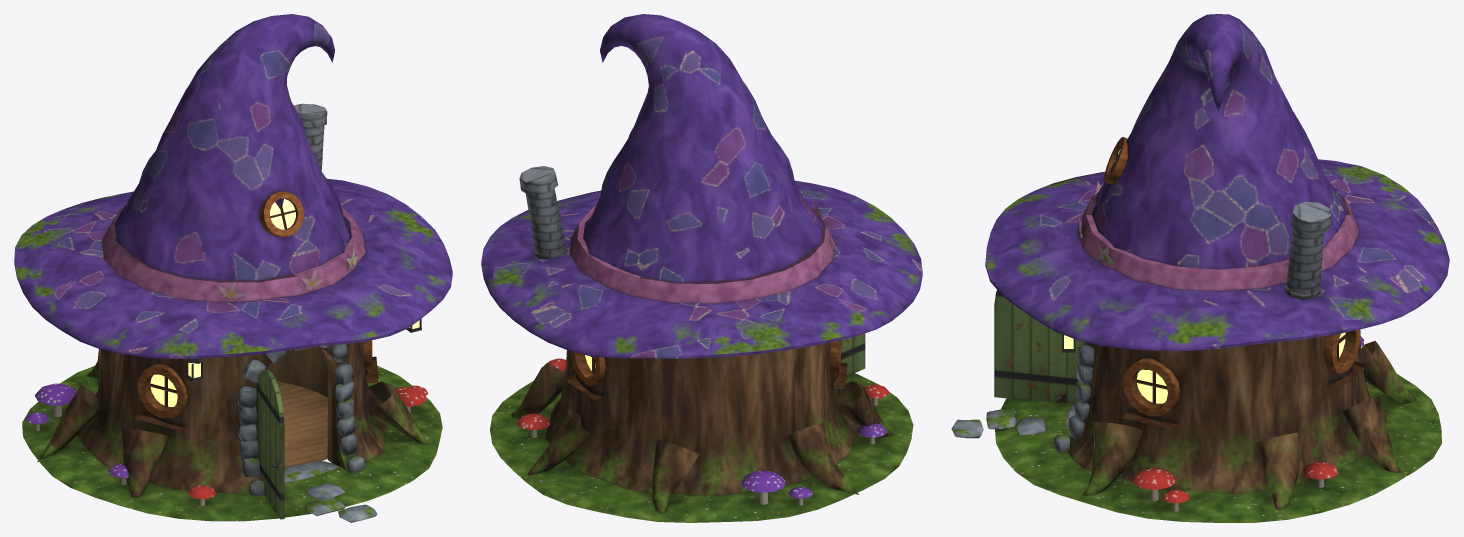
File: wg_witch_hut.fbx
The picture shows the model from 3 angles, left to right: view 1: azimuth 30°, elevation 25°; view 2: azimuth 150°, elevation 25°; view 3: azimuth 270°, elevation 25°; orthographic projection. The views are drawn at different scales.
Parts seen in each view (by area): view 1: wg_witch_hut; view 2: wg_witch_hut; view 3: wg_witch_hut.
Boxes of the visible parts, bbox=[...] form: wg_witch_hut: bbox=[14, 14, 452, 522]; wg_witch_hut: bbox=[481, 14, 922, 522]; wg_witch_hut: bbox=[951, 14, 1449, 522].
Size of the model in its own units: 1140 by 1178 by 1227.
Materials: 2 (1 with a texture image).
